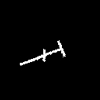double_crochet: (20, 41, 64, 64)
